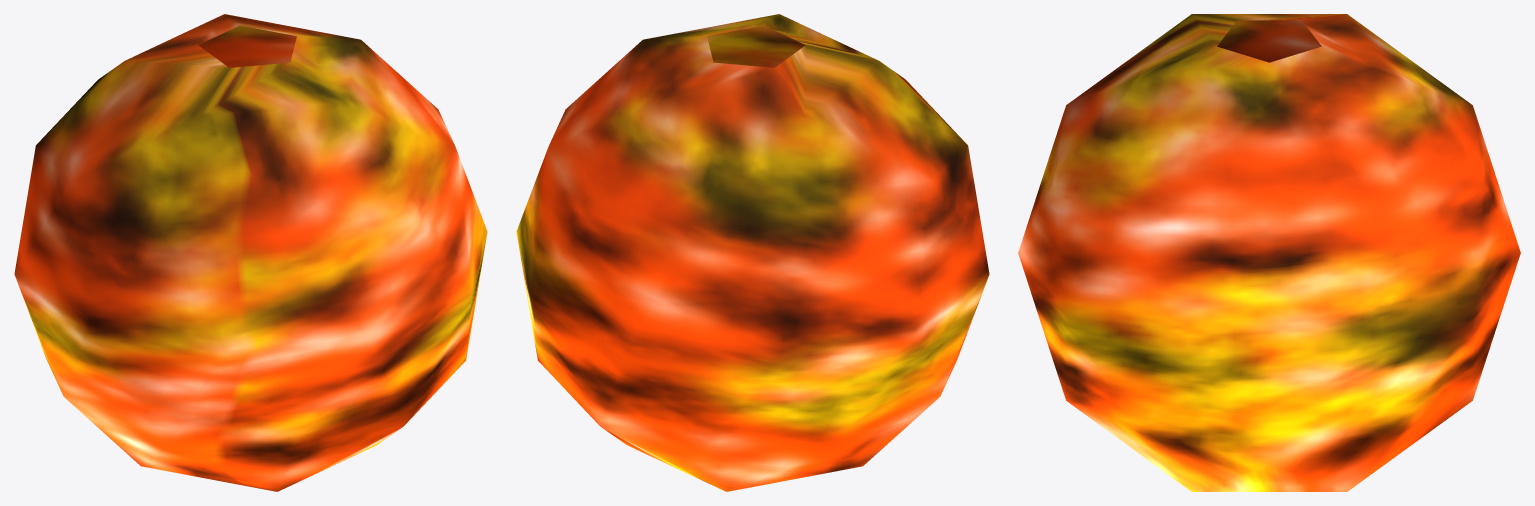
File: flame_sphere.glb
The picture shows the model from 3 angles, left to right: view 1: azimuth 30°, elevation 25°; view 2: azimuth 150°, elevation 25°; view 3: azimuth 270°, elevation 25°; orthographic projection. The views are drawn at different scales.
Visible parts, largest first — view 1: Icosphere; view 2: Icosphere; view 3: Icosphere.
Part boxes in pixels (<box>): Icosphere: <box>14,14,487,491</box>; Icosphere: <box>516,14,989,491</box>; Icosphere: <box>1018,14,1520,491</box>.
Size of the model in its own units: 1.9 by 1.87 by 2.
1 material, 1 textured.
